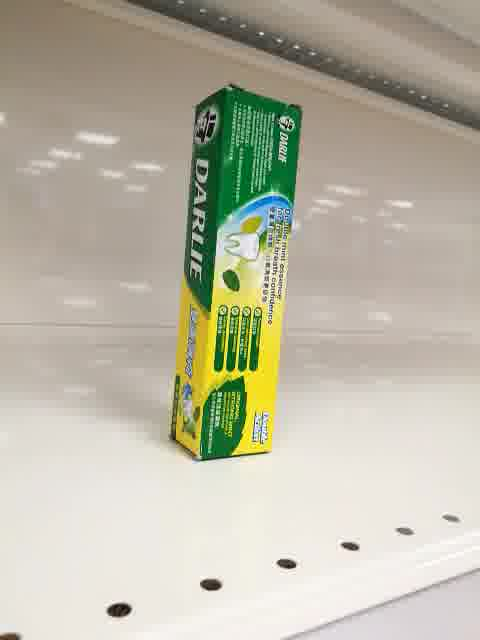toothpaste: (168, 83, 305, 463)
